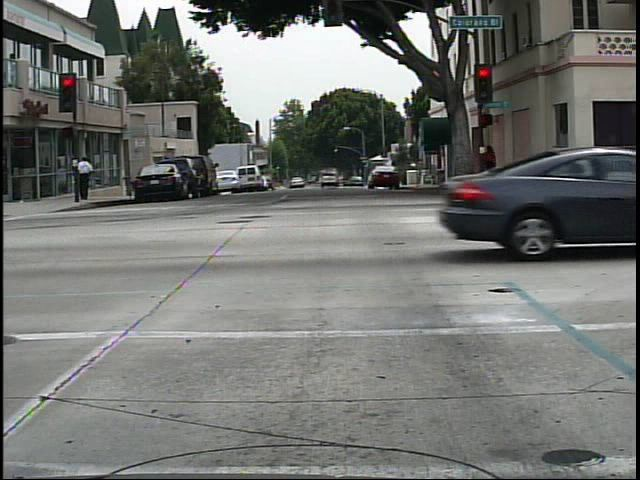person: (475, 136, 506, 193), (80, 147, 98, 201)
